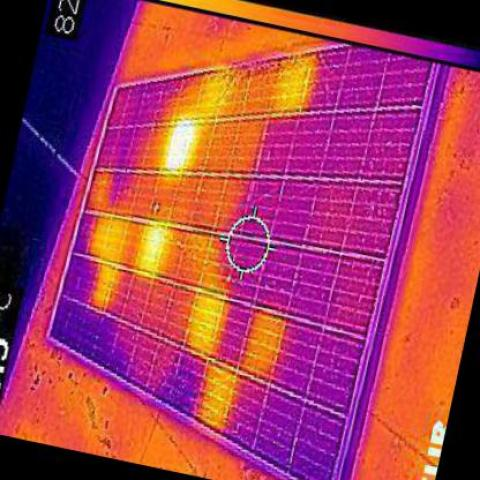fault: (166, 119, 194, 168), (143, 225, 164, 273)
